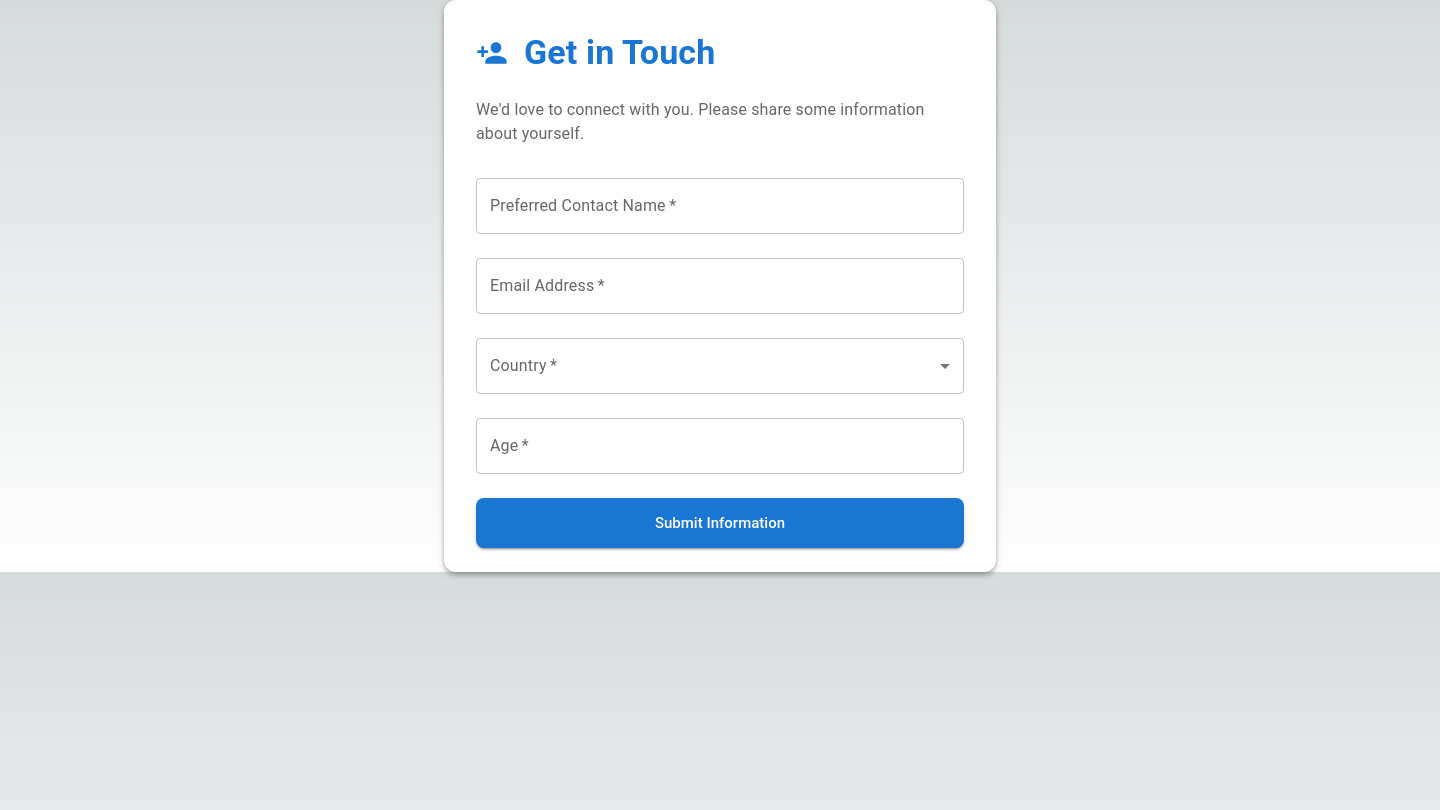
it: VisitorForm › shows error message when form submission fails
Type "John Doe" into the field labelled "Preferred Contact Name *".
click(720, 206); type("John Doe")  # box [476,178,964,234]
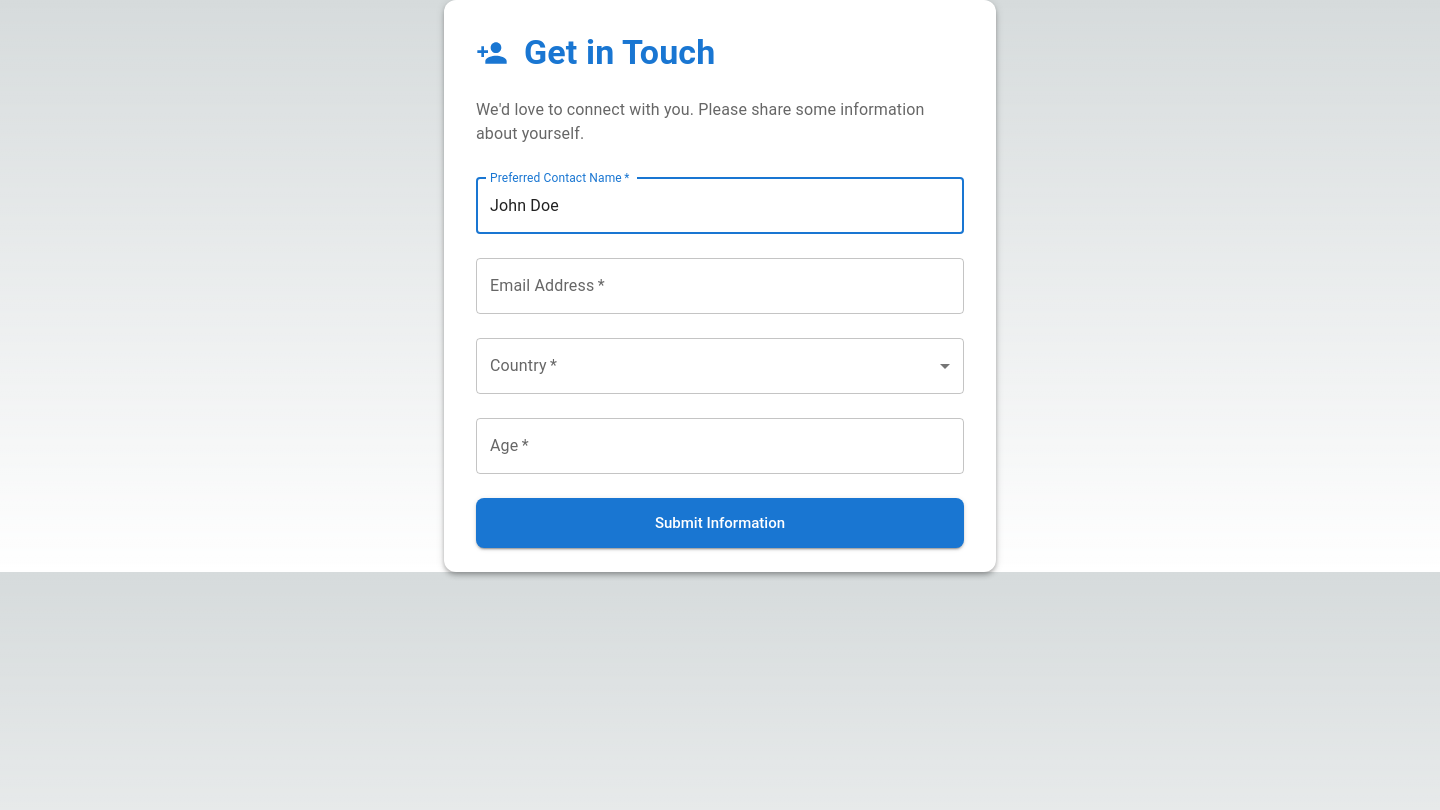
Type "john@example.com" into the field labelled "Email Address *".
click(720, 286); type("john@example.com")  # box [476,258,964,314]
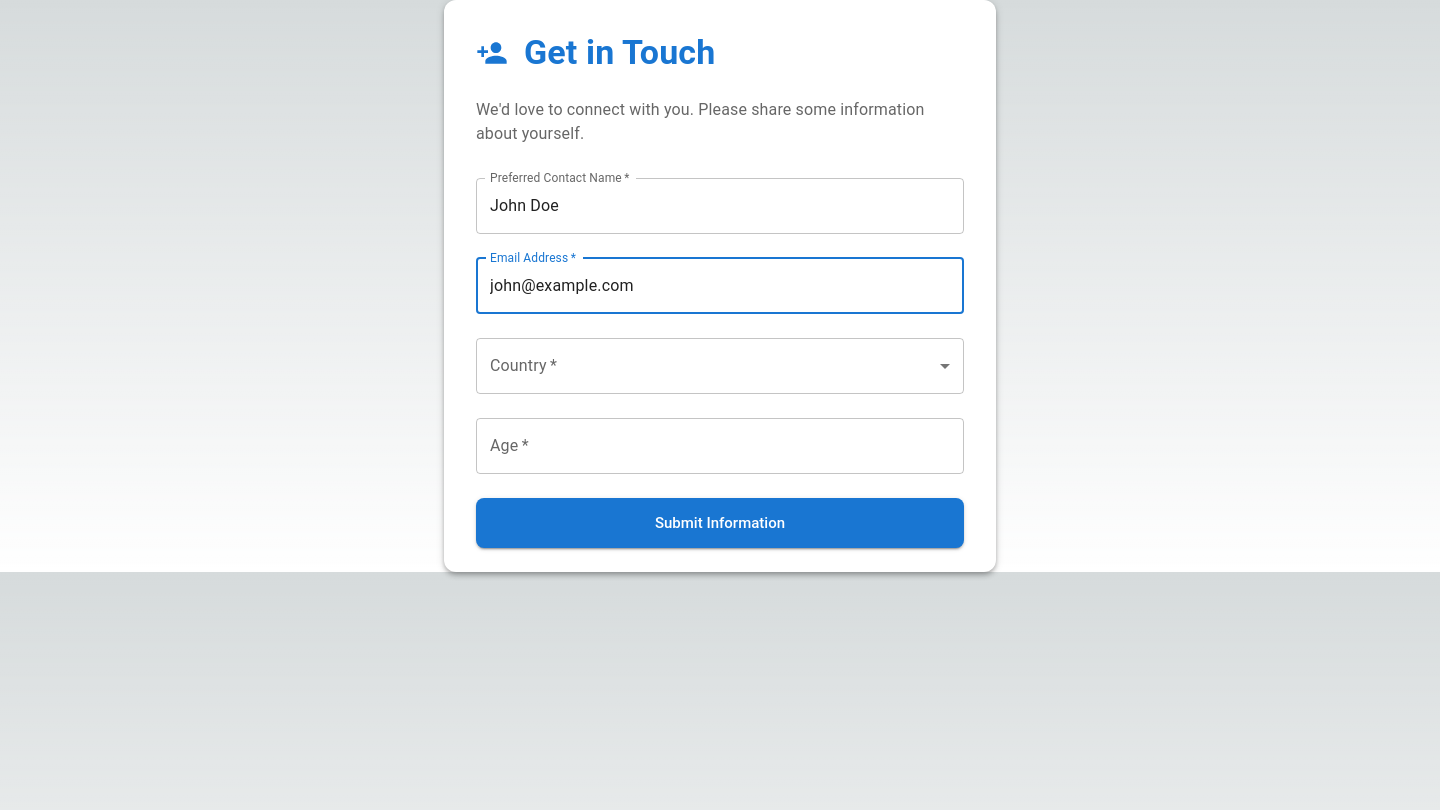
Click the dropdown named "country".
click(720, 366)  # box [476,338,964,394]
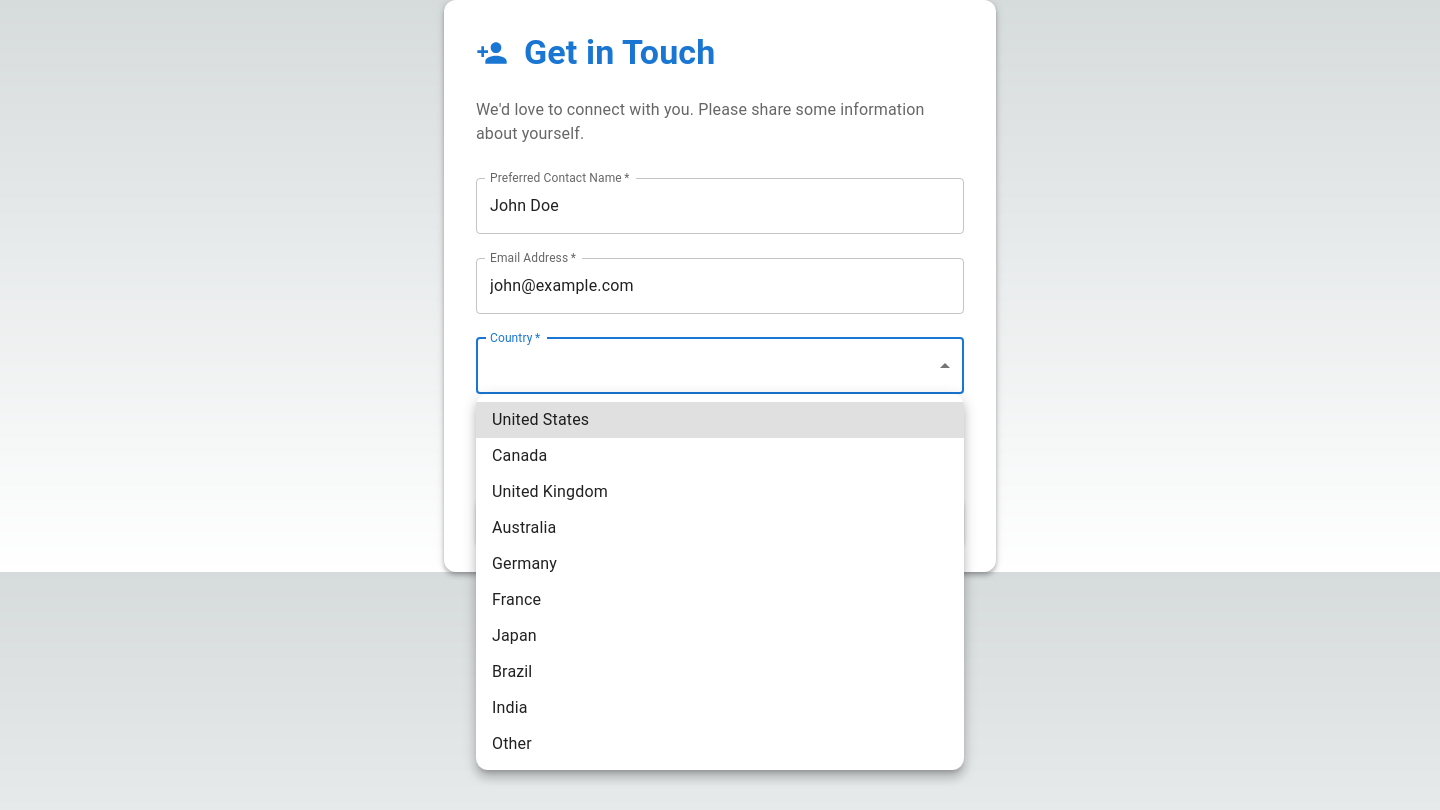
Click the option "United States".
click(541, 420)  # box [476,402,964,438]
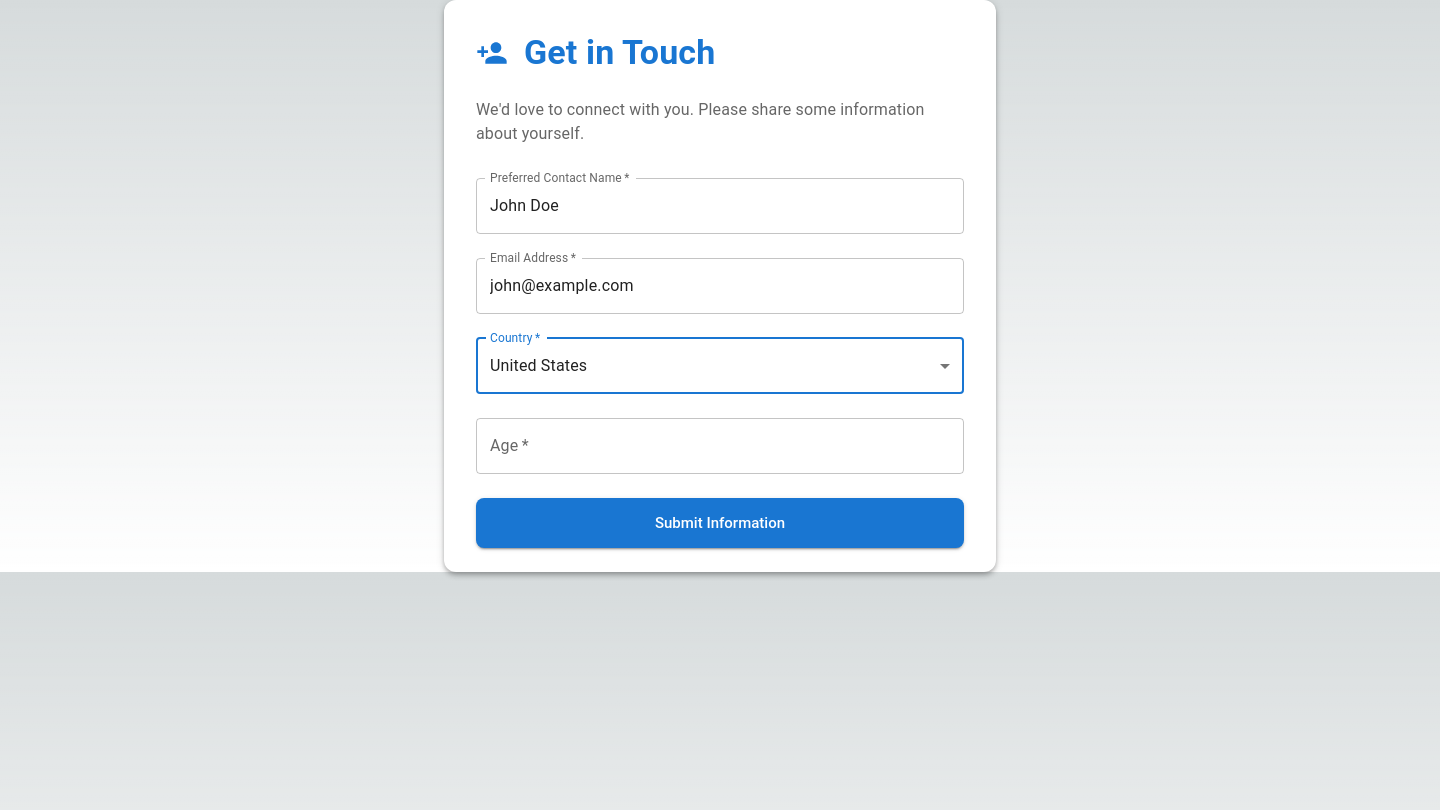
Type "30" into the number field labelled "Age *".
click(720, 446); type("30")  # box [476,418,964,474]
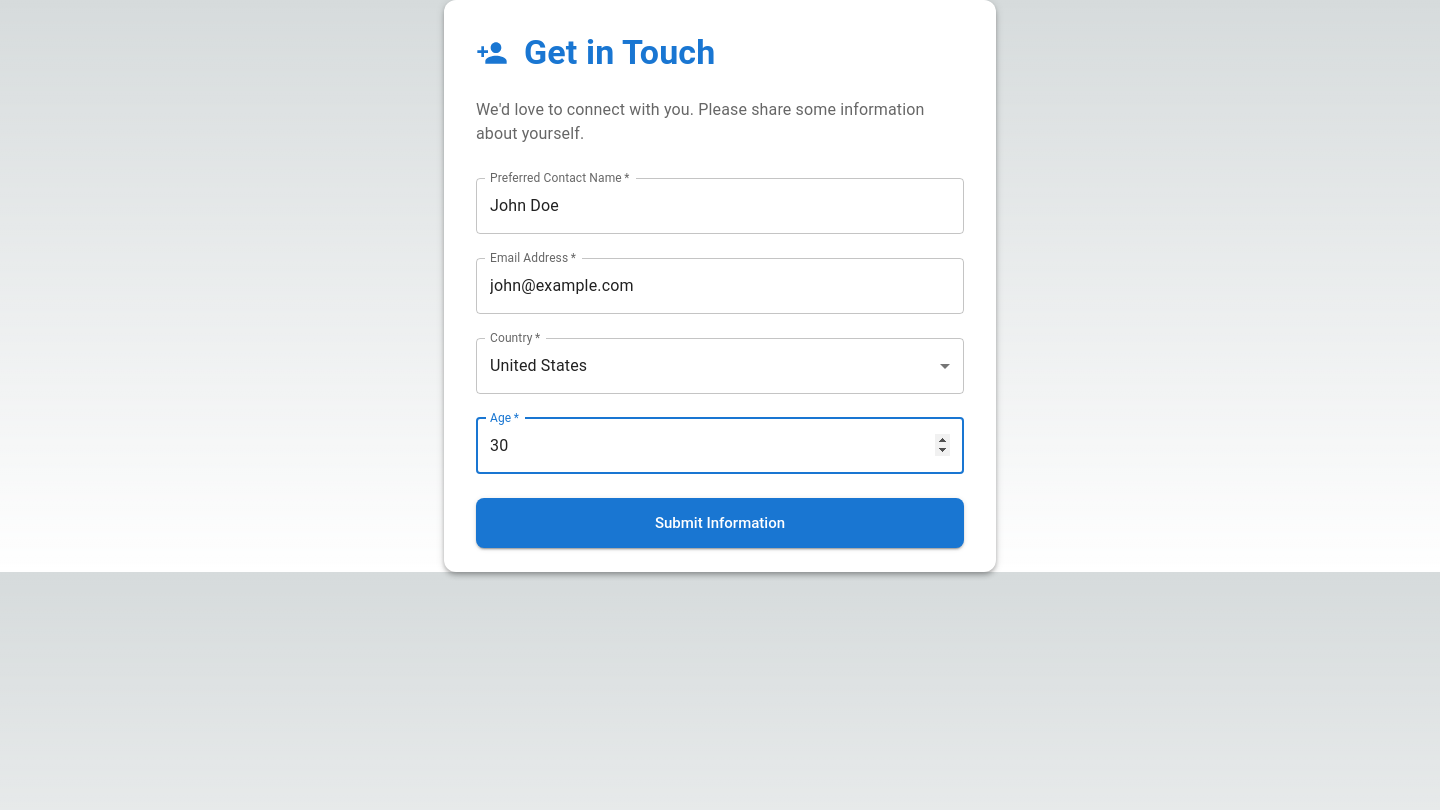
Click the button "Submit Information".
click(720, 523)  # box [476,498,964,548]
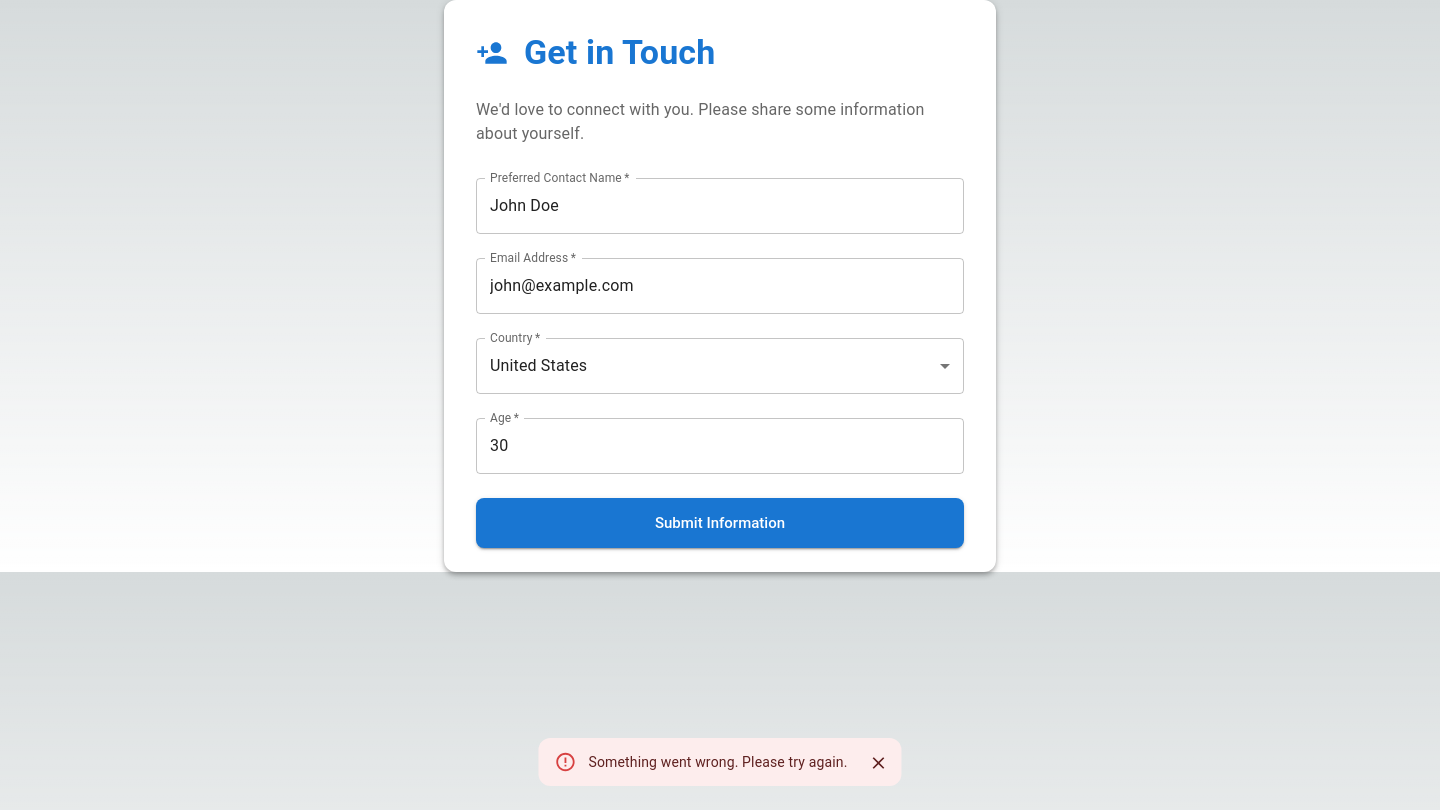
Now the text "Something went wrong. Please try again." is shown, box [588,754,848,770]
